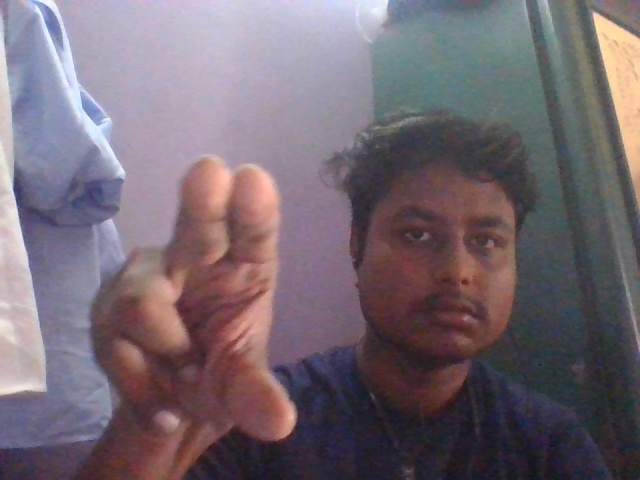no: (78, 144, 318, 460)
